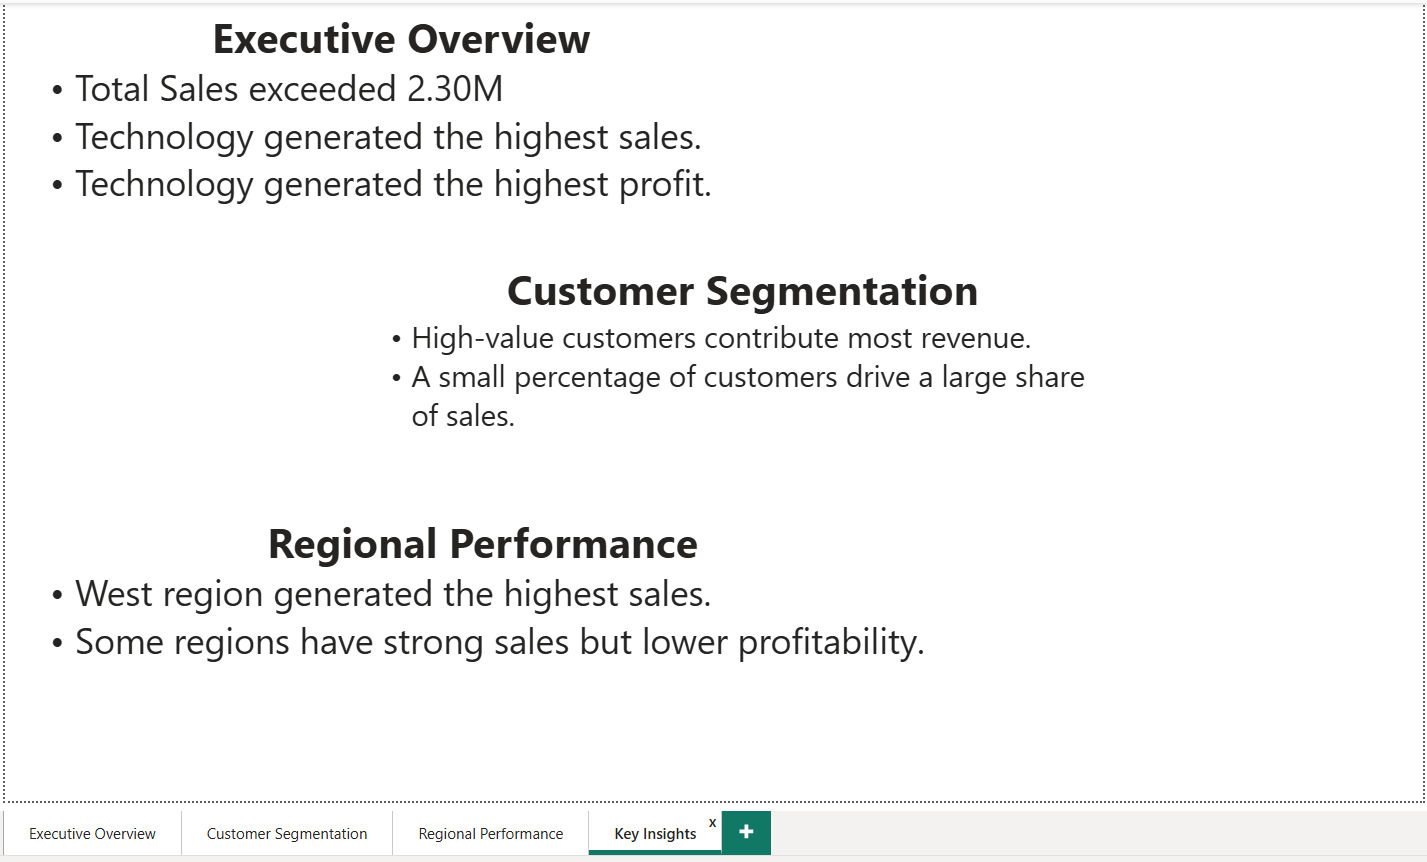

Layout of this report page (visuals, bound fields, positions):
{"tool":"powerbi","page":{"name":"Key Insights","canvas":[1280,720],"ordinal":3},"visuals":[{"type":"textbox","box":[9.8,0,694.6,303.3],"z":0},{"type":"textbox","box":[9.8,454.9,841.3,237.2],"z":2},{"type":"textbox","box":[321.6,227.4,688.5,217.7],"z":3}]}

Visuals, with their boxes on the page's 1280x720 design canvas (x1, y1, x2, y2). These are canvas units, not pixel positions in the 1427x862 screenshot, which may show the page scaled, cropped or inside an application window:
textbox: crop(10, 0, 704, 303)
textbox: crop(10, 455, 851, 692)
textbox: crop(322, 227, 1010, 445)
